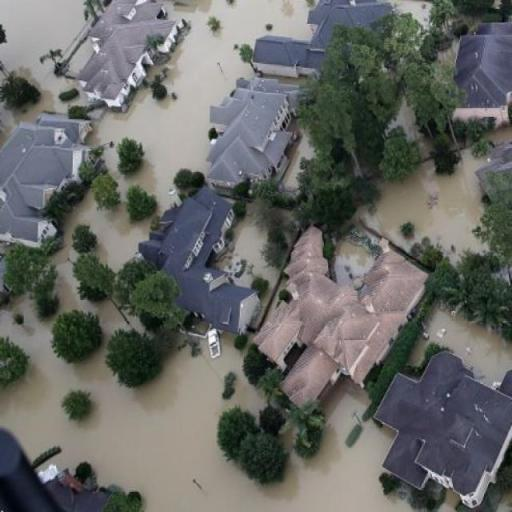flood: (0, 298, 410, 512), (92, 0, 306, 212), (52, 194, 150, 344), (368, 149, 487, 261), (0, 0, 86, 148), (410, 305, 512, 386), (217, 202, 284, 318), (282, 129, 315, 189), (386, 100, 422, 140), (390, 0, 432, 26), (67, 41, 92, 76), (438, 492, 458, 512), (497, 493, 512, 512)
house: (252, 227, 430, 408), (370, 340, 512, 506), (1, 116, 80, 252), (202, 78, 298, 188), (70, 12, 170, 108), (453, 18, 511, 139), (162, 192, 234, 272), (251, 31, 312, 79)
